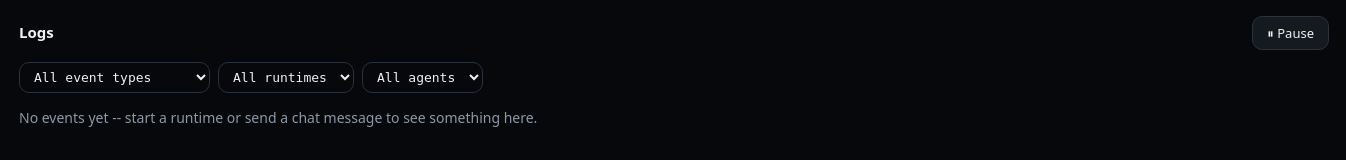
Test: LogsPage › selecting a type filter reloads with that filter and clear button appears
Select "runtime.started" in the 1st dropdown showing "All event types" at (114, 78), box [19,62,210,93]
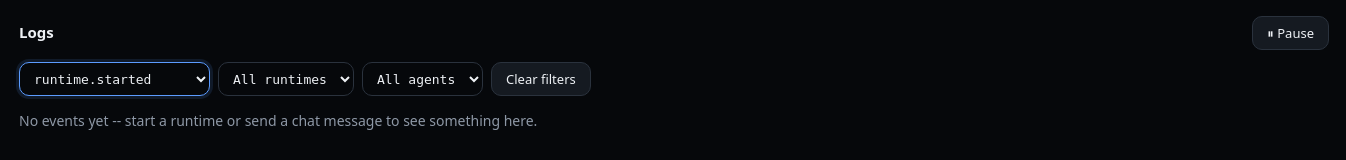
Check: the button "Clear filters" is shown
Click the button "Clear filters" at (541, 79), box [491,62,591,96]
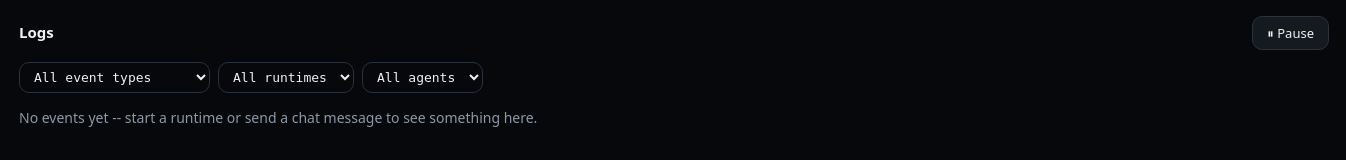
Check: the button "Clear filters" is gone
